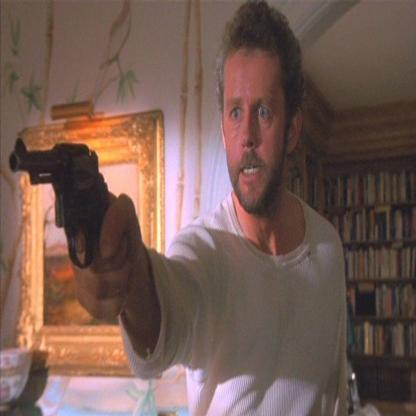gun: (9, 112, 116, 305)
